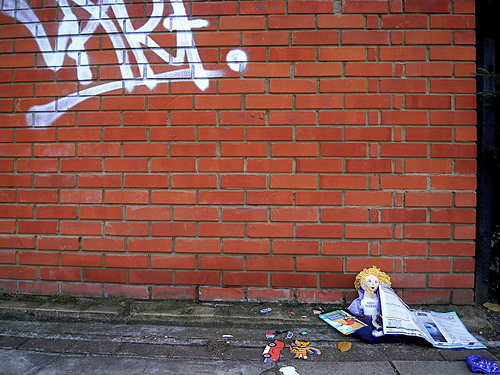litter: (379, 283, 488, 348), (348, 267, 387, 341), (316, 309, 363, 335), (462, 354, 500, 375), (288, 339, 322, 360), (263, 340, 285, 363), (277, 366, 299, 374)
